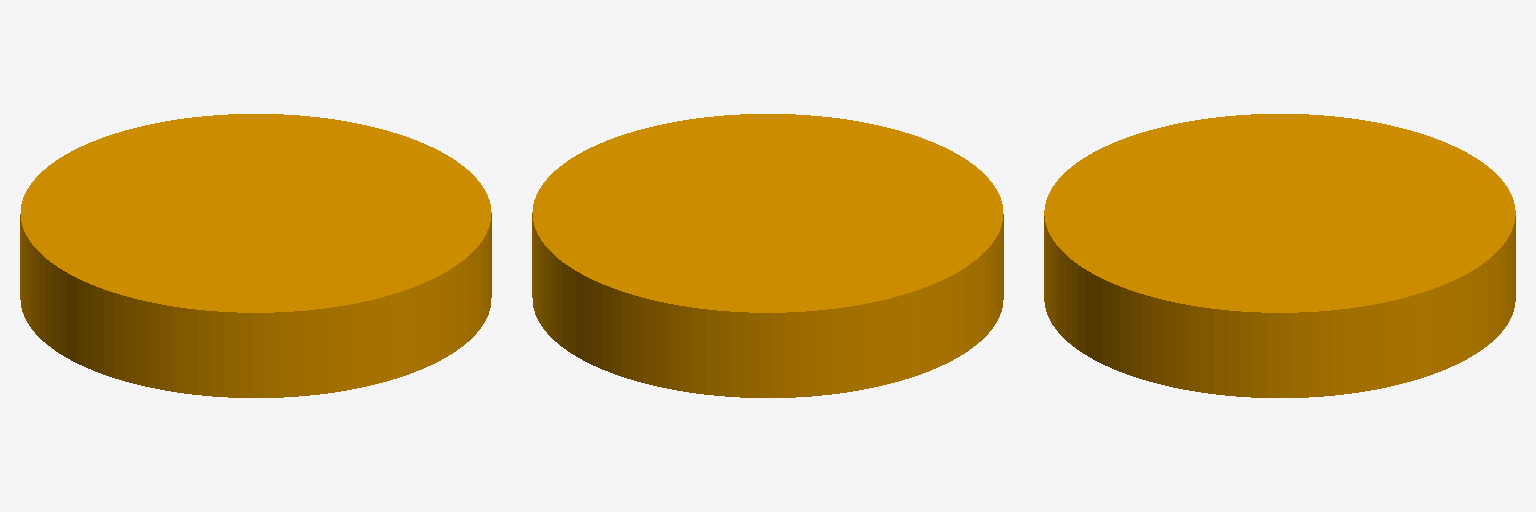
The robot description file, URDF, robot "arm":
<?xml version="1.0"?>
<robot name="arm">
  <link name="base_link">
    <visual>
    <origin rpy="0 0 0" xyz="0 0 4"/>
      <geometry>
        <mesh filename="arm.stl"/>
      </geometry>
    </visual>
  </link>
</robot>

--- Render facts (derived) ---
3 views of the same robot in one strip: view 1: azimuth 30°, elevation 25°; view 2: azimuth 150°, elevation 25°; view 3: azimuth 270°, elevation 25° (orthographic).
Model arm with 1 links and 0 joints (none), rooted at base_link, posed every joint at zero.
Links seen in each view (by area): view 1: base_link; view 2: base_link; view 3: base_link.
Boxes of the visible links, <box> form: base_link: <box>20,114,491,397</box>; base_link: <box>532,114,1003,397</box>; base_link: <box>1044,114,1515,397</box>.
Size in the robot's own frame: 50 by 49.98 by 10 metres.
Meshes: 1 distinct files referenced, 1 mesh visuals loaded (1 binary STL).